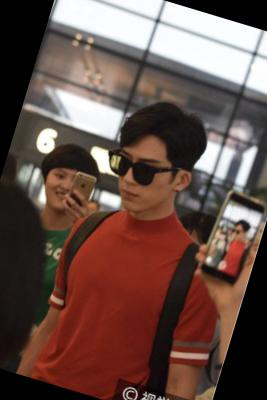without_mask: (106, 145, 182, 222), (39, 165, 85, 218)
